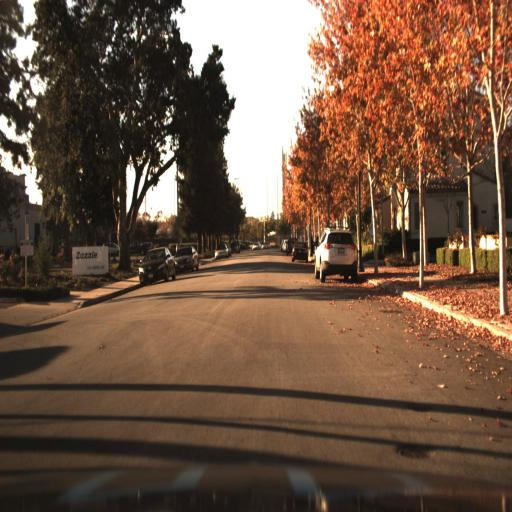car: (313, 217, 364, 286), (133, 242, 177, 293), (176, 244, 201, 278), (290, 238, 312, 266), (212, 240, 230, 264)
